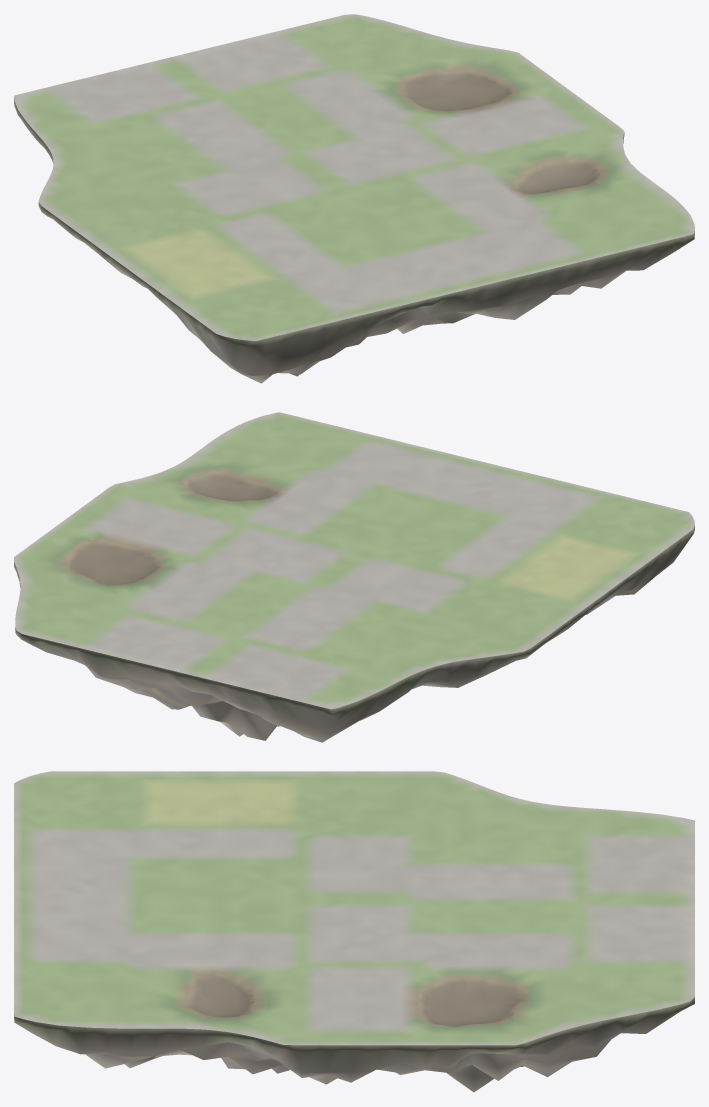
File: SKY-072.rock.glb
The picture shows the model from 3 angles, top to bottom: view 1: azimuth 30°, elevation 25°; view 2: azimuth 150°, elevation 25°; view 3: azimuth 270°, elevation 25°; orthographic projection. The views are drawn at different scales.
Parts seen in each view (by area): view 1: deck-col, rock; view 2: deck-col, rock; view 3: deck-col, rock.
Boxes of the visible parts, x1,y1,x2,y2 form: deck-col: (14, 14, 694, 340); rock: (14, 98, 694, 383); deck-col: (14, 412, 694, 709); rock: (14, 525, 694, 742); deck-col: (14, 771, 694, 1045); rock: (14, 997, 694, 1092).
Bounding box in the file's own units: 158 × 44.66 × 166.
